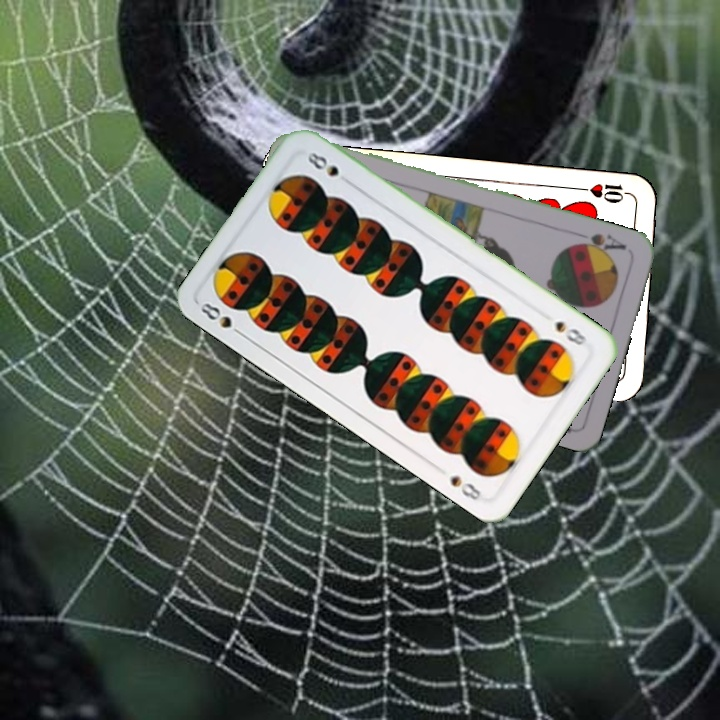H10: (575, 180, 634, 206)
S8: (196, 298, 248, 340), (551, 316, 590, 348)
SA: (570, 228, 629, 258)
